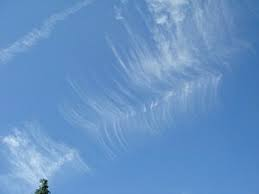Cirrus: (59, 2, 259, 158), (2, 119, 95, 191), (1, 1, 95, 66)
